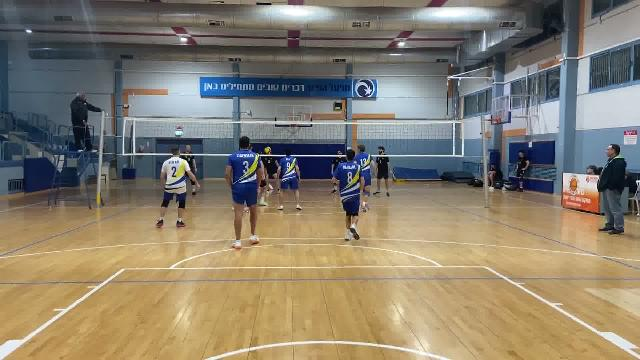ball: (261, 143, 273, 154)
